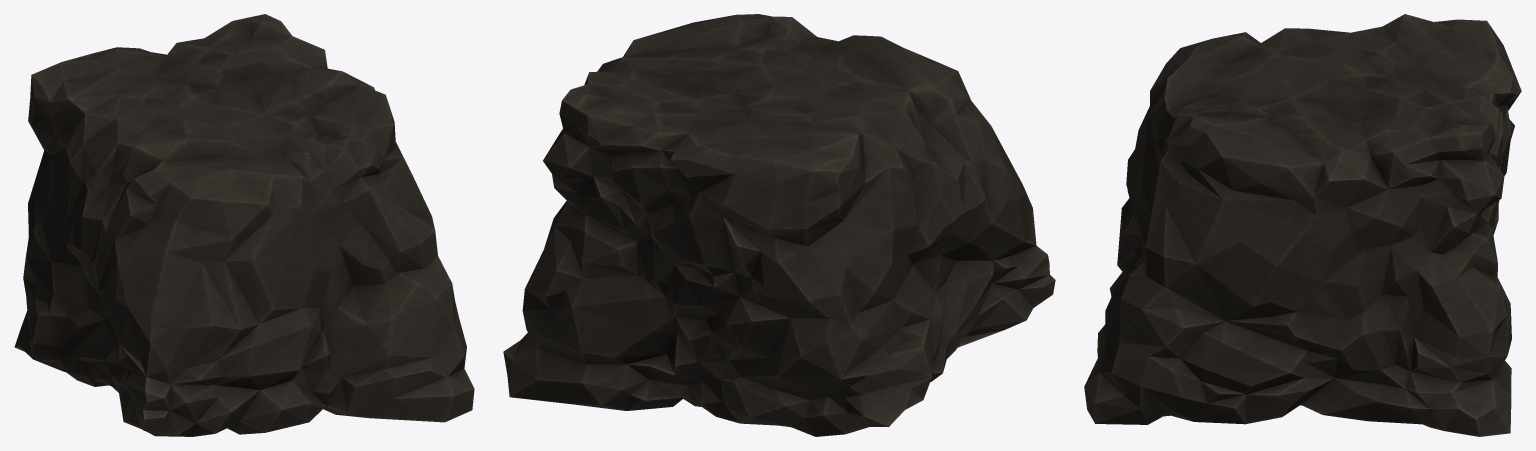
File: MKCave_MRockWallFlatTop.FBX
The picture shows the model from 3 angles, left to right: view 1: azimuth 30°, elevation 25°; view 2: azimuth 150°, elevation 25°; view 3: azimuth 270°, elevation 25°; orthographic projection. The views are drawn at different scales.
Parts seen in each view (by area): view 1: MKCave_MRockWallFlatTop_LOD0; view 2: MKCave_MRockWallFlatTop_LOD0; view 3: MKCave_MRockWallFlatTop_LOD0.
Boxes of the visible parts, x1,y1,x2,y2 form: MKCave_MRockWallFlatTop_LOD0: (14, 14, 474, 436); MKCave_MRockWallFlatTop_LOD0: (503, 14, 1055, 436); MKCave_MRockWallFlatTop_LOD0: (1084, 14, 1521, 436).
Size of the model in its own units: 506 by 534 by 394.
Materials: 1 (1 with a texture image).
